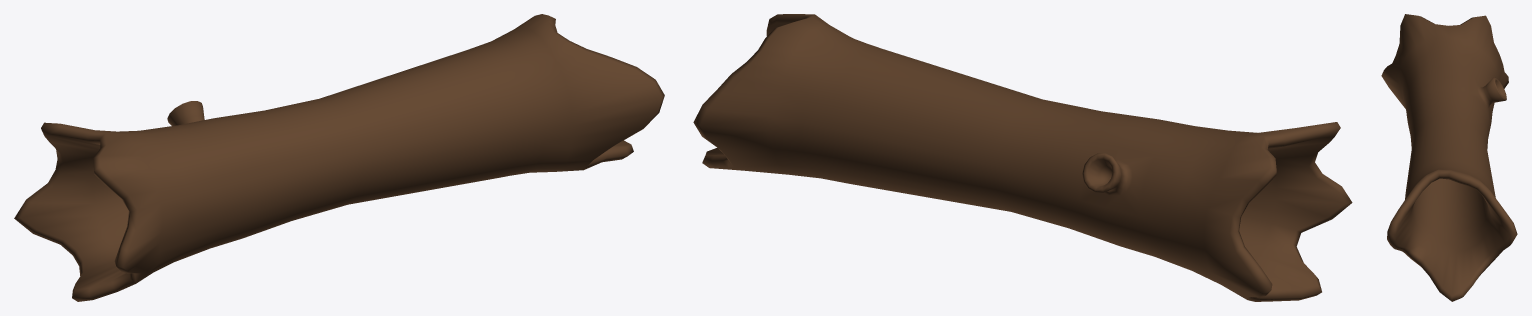
File: stump.glb
The picture shows the model from 3 angles, left to right: view 1: azimuth 30°, elevation 25°; view 2: azimuth 150°, elevation 25°; view 3: azimuth 270°, elevation 25°; orthographic projection. The views are drawn at different scales.
Parts seen in each view (by area): view 1: stump; view 2: stump; view 3: stump.
Part boxes in pixels (x1,y1,x2,y2): stump: [14, 14, 664, 301]; stump: [693, 14, 1352, 301]; stump: [1381, 14, 1517, 301].
Size of the model in its own units: 2.35 by 0.6 by 0.7067.
